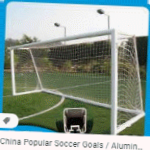goals: (7, 28, 144, 136)
